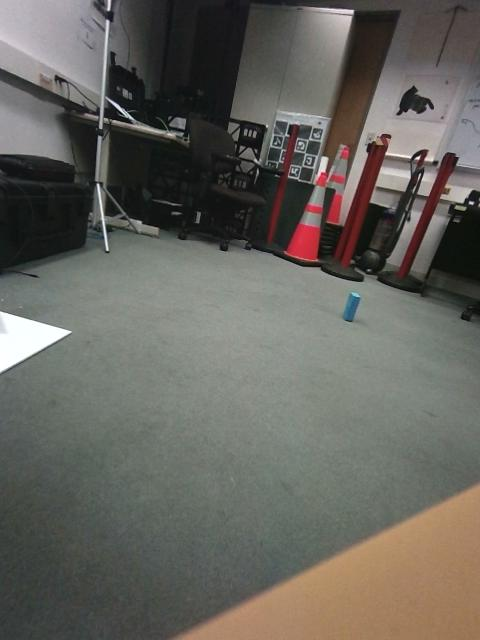block: (53, 339, 109, 431)
